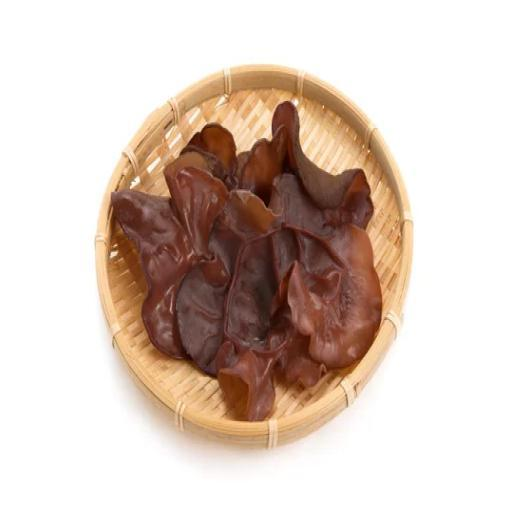mushroom: (105, 101, 395, 417)
